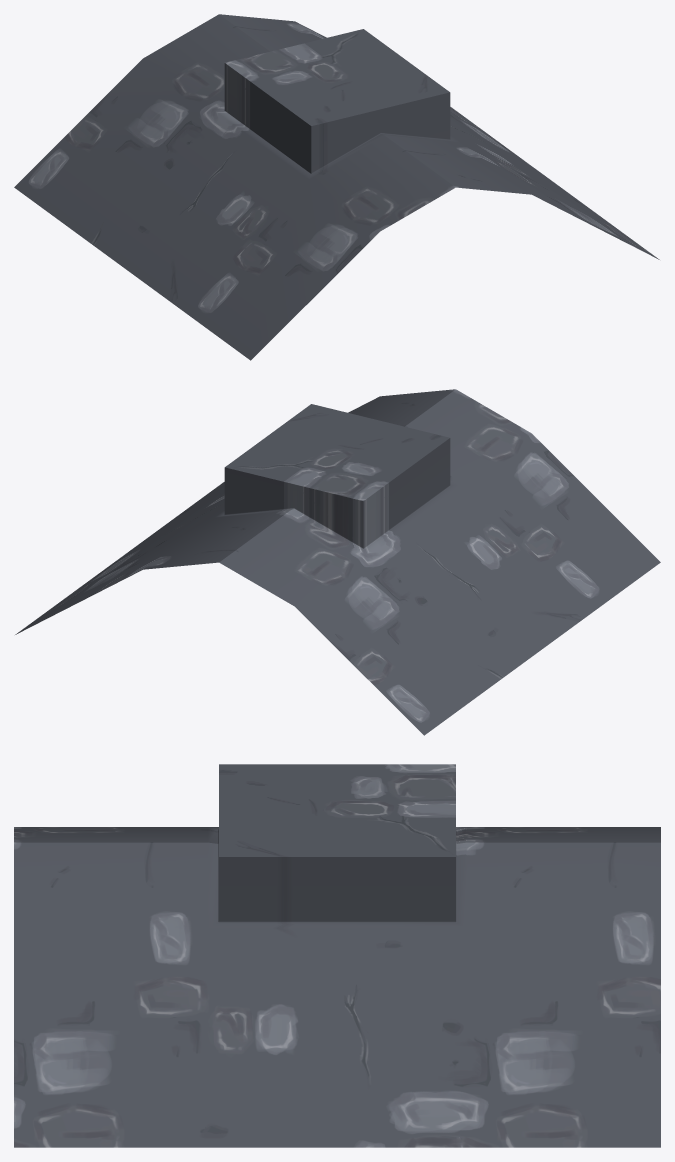
Rendered from Techo_7.fbx.
3 views of the same model, one above another, from view 1: azimuth 30°, elevation 25°; view 2: azimuth 150°, elevation 25°; view 3: azimuth 270°, elevation 25° (orthographic). The views are drawn at different scales.
Visible parts, largest first — view 1: Techos6; view 2: Techos6; view 3: Techos6.
Part boxes in pixels (box(x1,y1,x2,y2)): Techos6: box(14, 14, 659, 360); Techos6: box(15, 389, 660, 735); Techos6: box(14, 764, 660, 1147).
Size of the model in its own units: 14 by 4.78 by 14.
